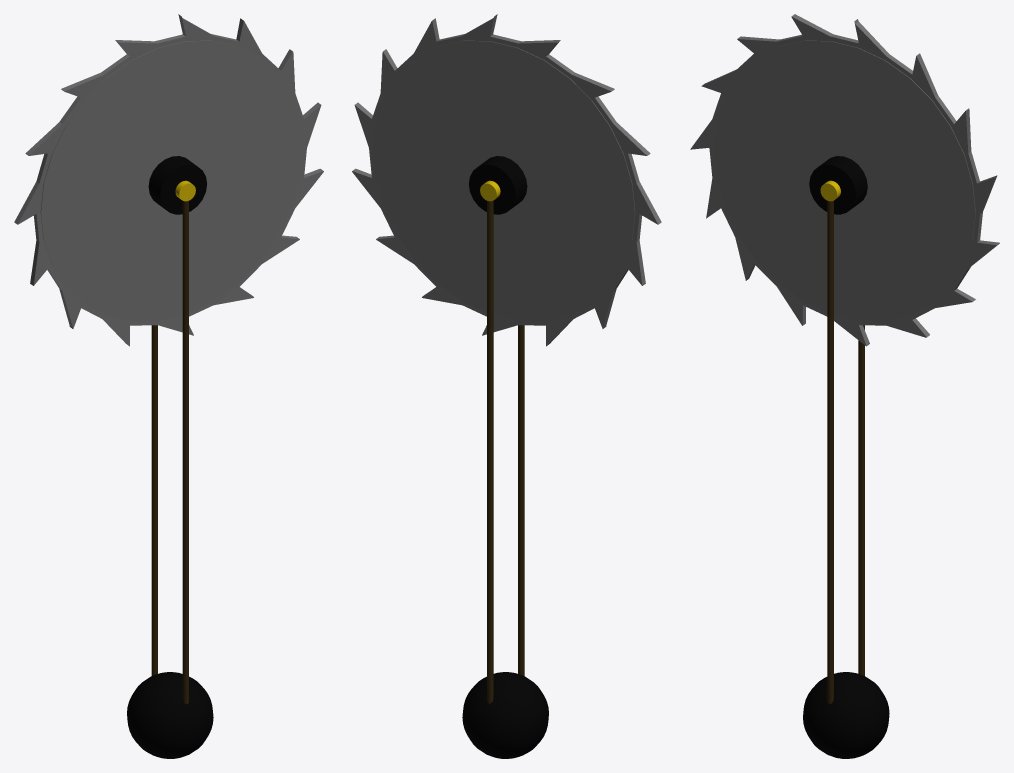
The model's file is saw.fbx.
3 renders of one model, left to right at view 1: azimuth 30°, elevation 25°; view 2: azimuth 150°, elevation 25°; view 3: azimuth 330°, elevation 25°, orthographic.
Visible parts, largest first — view 1: pCylinder3, pSphere1, pCylinder7, pCylinder6, pCylinder4; view 2: pCylinder3, pSphere1, pCylinder6, pCylinder7, pCylinder4; view 3: pCylinder3, pSphere1, pCylinder7, pCylinder6, pCylinder4.
Part boxes in pixels (box(x1,y1,x2,y2)): pCylinder3: box(14, 14, 323, 346); pSphere1: box(127, 672, 213, 758); pCylinder7: box(182, 201, 188, 703); pCylinder6: box(151, 325, 157, 675); pCylinder4: box(148, 156, 206, 214); pCylinder3: box(352, 14, 661, 346); pSphere1: box(462, 672, 548, 758); pCylinder6: box(487, 200, 493, 703); pCylinder7: box(518, 325, 524, 675); pCylinder4: box(469, 156, 527, 214); pCylinder3: box(690, 14, 999, 346); pSphere1: box(803, 672, 889, 758); pCylinder7: box(827, 200, 833, 703); pCylinder6: box(858, 325, 864, 675); pCylinder4: box(809, 156, 867, 214).
Bounding box in the file's own units: 5.08 × 11.68 × 1.25.
